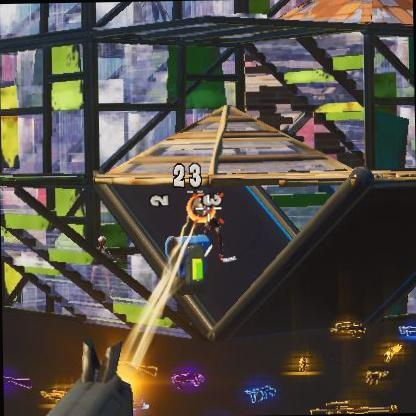person: (199, 188, 223, 248), (96, 234, 109, 250)
